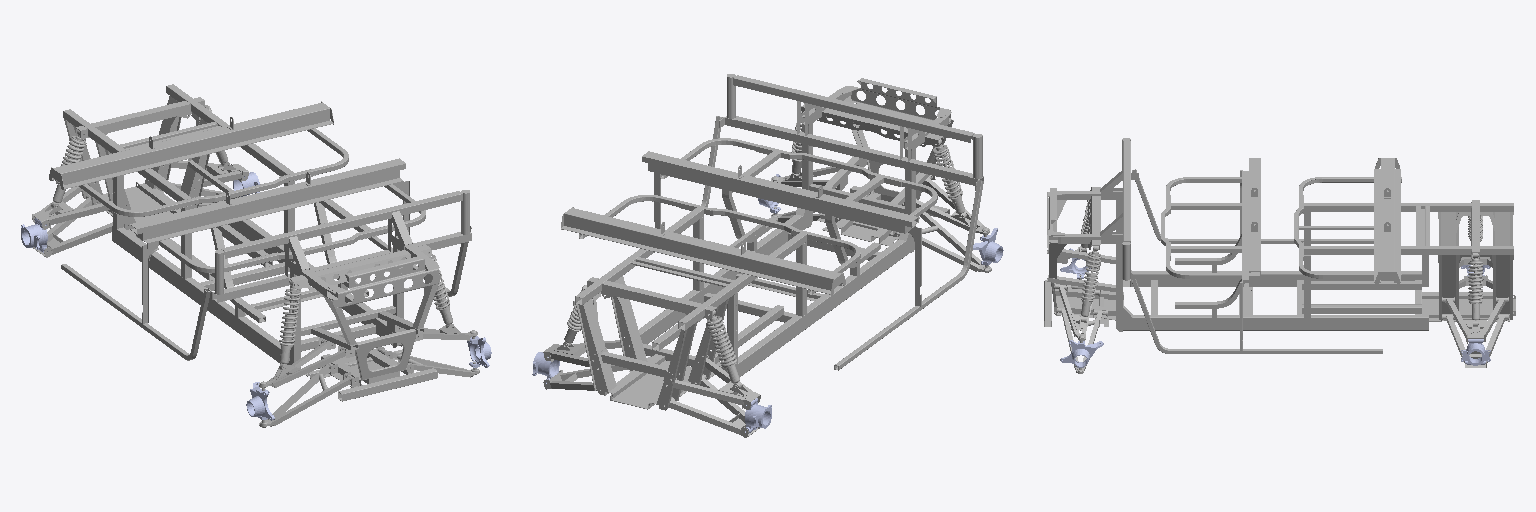
--- What the picture shows (computed from the rendered views, not written in the file) ---
The picture shows the robot from 3 angles, left to right: view 1: azimuth 30°, elevation 25°; view 2: azimuth 150°, elevation 25°; view 3: azimuth 270°, elevation 25°; orthographic projection.
Model panter with 21 links and 20 joints (20 revolute), rooted at CH, posed every joint at zero.
Links seen in each view (by area): view 1: CH, SD03_DCH, SD02_DCH, ST02_DCH, ST03_DCH, SD01_DCH, ST02_IZQ, SD03_IZQ, ST01_DCH, MGD_DCH, MGT_DCH, MGD_IZQ (+2 smaller); view 2: CH, ST02_DCH, ST03_DCH, SD03_DCH, ST01_DCH, ST02_IZQ, SD02_DCH, ST03_IZQ, SD01_DCH, MGD_DCH, MGT_DCH; view 3: CH, ST02_IZQ, ST01_IZQ, SD01_IZQ, ST03_IZQ, SD02_IZQ, MGD_IZQ, SD03_IZQ.
Boxes of the visible links, left/top/right/bottom form: CH: left=49, top=84, right=471, bottom=401; SD03_DCH: left=259, top=363, right=355, bottom=427; SD02_DCH: left=259, top=339, right=351, bottom=390; ST02_DCH: left=32, top=182, right=125, bottom=229; ST03_DCH: left=33, top=194, right=128, bottom=257; SD01_DCH: left=279, top=281, right=300, bottom=369; ST02_IZQ: left=163, top=161, right=248, bottom=188; SD03_IZQ: left=378, top=347, right=479, bottom=377; ST01_DCH: left=51, top=130, right=86, bottom=208; MGD_DCH: left=246, top=382, right=274, bottom=420; MGT_DCH: left=21, top=218, right=47, bottom=252; MGD_IZQ: left=467, top=336, right=491, bottom=367; CH: left=561, top=74, right=983, bottom=410; ST02_DCH: left=666, top=355, right=760, bottom=409; ST03_DCH: left=664, top=374, right=759, bottom=437; SD03_DCH: left=899, top=208, right=991, bottom=272; ST01_DCH: left=707, top=310, right=741, bottom=388; ST02_IZQ: left=543, top=340, right=629, bottom=369; SD02_DCH: left=903, top=175, right=989, bottom=236; ST03_IZQ: left=543, top=365, right=628, bottom=390; SD01_DCH: left=933, top=139, right=966, bottom=218; MGD_DCH: left=973, top=228, right=1003, bottom=265; MGT_DCH: left=745, top=398, right=771, bottom=433; CH: left=1044, top=138, right=1515, bottom=353; ST02_IZQ: left=1442, top=297, right=1508, bottom=343; ST01_IZQ: left=1468, top=253, right=1482, bottom=326; SD01_IZQ: left=1081, top=246, right=1101, bottom=322; ST03_IZQ: left=1442, top=314, right=1508, bottom=367; SD02_IZQ: left=1054, top=283, right=1099, bottom=342; MGD_IZQ: left=1060, top=340, right=1103, bottom=367; SD03_IZQ: left=1057, top=307, right=1106, bottom=373.
Size in the robot's own frame: 1.5 by 2.62 by 0.8512 metres.
Meshes: 21 distinct files referenced, 17 mesh visuals loaded (17 binary STL); not drawn: 4 (reference not matched to a file when rendering).

The robot description file, URDF, robot "panter":
<?xml version="1.0" encoding="utf-8"?>

<robot
  name="panter">

<!-- <robot xmlns:xacro="http://www.ros.org/wiki/xacro" name="panter"> -->

<!-- CHASIS -->

<link
    name="CH">
    <inertial>
      <origin
        xyz="-0.00983192888400144 0.62639795388304 0.443120445078725"
        rpy="0 0 0" />
      <mass
        value="16.3049342430285" />
      <inertia
        ixx="0.675005547889005"
        ixy="0.00102820871392242"
        ixz="2.91476841341558E-05"
        iyy="1.36648911961006"
        iyz="0.00345698135611923"
        izz="0.827550366158993" />
    </inertial>
    <visual>
      <origin
        xyz="0 0 0"
        rpy="0 0 0" />
      <geometry>
        <mesh
          filename="package://description_pkg/meshes/CH.STL" />
      </geometry>
      <material
        name="">
        <color
          rgba="0.752941176470588 0.752941176470588 0.752941176470588 1" />
      </material>
    </visual>
    <collision>
      <origin
        xyz="0 0 0"
        rpy="0 0 0" />
      <geometry>
        <mesh
          filename="package://description_pkg/meshes/CH.STL" />
      </geometry>
    </collision>
  </link>
  <link
    name="SD01_IZQ">
    <inertial>
      <origin
        xyz="0.023095387698854 0.0466016681758654 -0.187519014527032"
        rpy="0 0 0" />
      <mass
        value="1.56443700619494" />
      <inertia
        ixx="0.00548963633268464"
        ixy="-0.00018551496856869"
        ixz="0.000752980159420513"
        iyy="0.00531762879813634"
        iyz="0.00114868462288691"
        izz="0.00101605585965137" />
    </inertial>
    <visual>
      <origin
        xyz="0 0 0"
        rpy="0 0 0" />
      <geometry>
        <mesh
          filename="package://description_pkg/meshes/SD01_IZQ.STL" />
      </geometry>
      <material
        name="">
        <color
          rgba="0.752941176470588 0.752941176470588 0.752941176470588 1" />
      </material>
    </visual>
    <collision>
      <origin
        xyz="0 0 0"
        rpy="0 0 0" />
      <geometry>
        <mesh
          filename="package://description_pkg/meshes/SD01_IZQ.STL" />
      </geometry>
    </collision>
  </link>
  <joint
    name="SD01_IZQ_CH_joint"
    type="revolute">
    <origin
      xyz="0.364 -1.4598 0.85354"
      rpy="0 0 -1.5708" />
    <parent
      link="CH" />
    <child
      link="SD01_IZQ" />
    <axis
      xyz="1 0 0" />
    <limit
      lower="0"
      upper="0"
      effort="0"
      velocity="0" />
  </joint>
  <link
    name="SD02_IZQ">
    <inertial>
      <origin
        xyz="-0.109382785064343 0.00538487709498259 -0.0166938186536861"
        rpy="0 0 0" />
      <mass
        value="0.622420648905116" />
      <inertia
        ixx="0.00677202938721815"
        ixy="-0.000324278555608583"
        ixz="3.65258159556241E-05"
        iyy="0.00111523663422332"
        iyz="0.00191718137163107"
        izz="0.00655957488261709" />
    </inertial>
    <visual>
      <origin
        xyz="0 0 0"
        rpy="0 0 0" />
      <geometry>
        <mesh
          filename="package://description_pkg/meshes/SD02_IZQ.STL" />
      </geometry>
      <material
        name="">
        <color
          rgba="0.752941176470588 0.752941176470588 0.752941176470588 1" />
      </material>
    </visual>
    <collision>
      <origin
        xyz="0 0 0"
        rpy="0 0 0" />
      <geometry>
        <mesh
          filename="package://description_pkg/meshes/SD02_IZQ.STL" />
      </geometry>
    </collision>
  </link>
  <joint
    name="SD02_IZQ_CH_joint"
    type="revolute">
    <origin
      xyz="0.1865 -1.6482 0.53091"
      rpy="0 0 -1.5708" />
    <parent
      link="CH" />
    <child
      link="SD02_IZQ" />
    <axis
      xyz="1 0 0" />
    <limit
      lower="0"
      upper="0"
      effort="0"
      velocity="0" />
  </joint>
  <link
    name="MGD_IZQ">
    <inertial>
      <origin
        xyz="-0.0855932268768944 0.00173893668665892 -0.0563643457848181"
        rpy="0 0 0" />
      <mass
        value="0.657785044151253" />
      <inertia
        ixx="0.00160628936815674"
        ixy="-6.87964117180997E-06"
        ixz="-2.77497675092375E-05"
        iyy="0.000818666431242726"
        iyz="-0.000112075156886058"
        izz="0.00115594236415573" />
    </inertial>
    <visual>
      <origin
        xyz="0 0 0"
        rpy="0 0 0" />
      <geometry>
        <mesh
          filename="package://description_pkg/meshes/MGD_IZQ.STL" />
      </geometry>
      <material
        name="">
        <color
          rgba="0.792156862745098 0.819607843137255 0.933333333333333 1" />
      </material>
    </visual>
    <collision>
      <origin
        xyz="0 0 0"
        rpy="0 0 0" />
      <geometry>
        <mesh
          filename="package://description_pkg/meshes/MGD_IZQ.STL" />
      </geometry>
    </collision>
  </link>
  <joint
    name="MGD_IZQ_joint"
    type="revolute">
    <origin
      xyz="-0.1154 0.39602 -0.15378"
      rpy="0 0 1.5708" />
    <parent
      link="SD02_IZQ" />
    <child
      link="MGD_IZQ" />
    <axis
      xyz="0 0 1" />
    <limit
      lower="0"
      upper="0"
      effort="0"
      velocity="0" />
  </joint>
  <link
    name="ED_IZQ">
    <inertial>
      <origin
        xyz="8.85917361692634E-09 -0.0200314381656788 0.00122958365489734"
        rpy="0 0 0" />
      <mass
        value="28.7708024251051" />
      <inertia
        ixx="0.813510121096803"
        ixy="6.54513861211974E-08"
        ixz="-6.1423151286828E-09"
        iyy="1.43765773987055"
        iyz="-0.0383142541855921"
        izz="0.815862125218103" />
    </inertial>
    <visual>
      <origin
        xyz="0 0 0"
        rpy="0 0 0" />
      <geometry>
        <mesh
          filename="package://description_pkg/meshes/ED_IZQ.STL" />
      </geometry>
      <material
        name="">
        <color
          rgba="0.792156862745098 0.819607843137255 0.933333333333333 1" />
      </material>
    </visual>
    <collision>
      <origin
        xyz="0 0 0"
        rpy="0 0 0" />
      <geometry>
        <mesh
          filename="package://description_pkg/meshes/ED_IZQ.STL" />
      </geometry>
    </collision>
  </link>
  <joint
    name="ED_IZQ_joint"
    type="revolute">
    <origin
      xyz="0.12485 -0.0032345 -0.085073"
      rpy="0 0 -1.5708" />
    <parent
      link="MGD_IZQ" />
    <child
      link="ED_IZQ" />
    <axis
      xyz="0 1 0" />
    <limit
      lower="0"
      upper="0"
      effort="0"
      velocity="0" />
  </joint>
  <link
    name="SD03_IZQ">
    <inertial>
      <origin
        xyz="-0.0973675515390373 0.158067753699 -0.0696606835141533"
        rpy="0 0 0" />
      <mass
        value="0.468898614819819" />
      <inertia
        ixx="0.00505911557852378"
        ixy="-0.000121765335801826"
        ixz="1.81818642259916E-05"
        iyy="0.00122147601558512"
        iyz="0.00174136109600662"
        izz="0.00479917105508991" />
    </inertial>
    <visual>
      <origin
        xyz="0 0 0"
        rpy="0 0 0" />
      <geometry>
        <mesh
          filename="package://description_pkg/meshes/SD03_IZQ.STL" />
      </geometry>
      <material
        name="">
        <color
          rgba="0.752941176470588 0.752941176470588 0.752941176470588 1" />
      </material>
    </visual>
    <collision>
      <origin
        xyz="0 0 0"
        rpy="0 0 0" />
      <geometry>
        <mesh
          filename="package://description_pkg/meshes/SD03_IZQ.STL" />
      </geometry>
    </collision>
  </link>
  <joint
    name="SD03_IZQ_CH_joint"
    type="revolute">
    <origin
      xyz="0.151 -1.6306 0.37054"
      rpy="0 0 -1.5708" />
    <parent
      link="CH" />
    <child
      link="SD03_IZQ" />
    <axis
      xyz="0.99756 0 0.069756" />
    <limit
      lower="0"
      upper="0"
      effort="0"
      velocity="0" />
  </joint>
  <link
    name="SD01_DCH">
    <inertial>
      <origin
        xyz="0.0230960940307681 -0.0466016638376696 -0.18751886137021"
        rpy="0 0 0" />
      <mass
        value="1.56443734854762" />
      <inertia
        ixx="0.00547351601733843"
        ixy="0.000202568433857257"
        ixz="0.000799273132675731"
        iyy="0.0053176293368279"
        iyz="-0.00114580036452776"
        izz="0.00103217687096515" />
    </inertial>
    <visual>
      <origin
        xyz="0 0 0"
        rpy="0 0 0" />
      <geometry>
        <mesh
          filename="package://description_pkg/meshes/SD01_DCH.STL" />
      </geometry>
      <material
        name="">
        <color
          rgba="0.752941176470588 0.752941176470588 0.752941176470588 1" />
      </material>
    </visual>
    <collision>
      <origin
        xyz="0 0 0"
        rpy="0 0 0" />
      <geometry>
        <mesh
          filename="package://description_pkg/meshes/SD01_DCH.STL" />
      </geometry>
    </collision>
  </link>
  <joint
    name="SD01_DCH_CH_joint"
    type="revolute">
    <origin
      xyz="-0.364 -1.4598 0.85354"
      rpy="0 0 -1.5708" />
    <parent
      link="CH" />
    <child
      link="SD01_DCH" />
    <axis
      xyz="1 0 0" />
    <limit
      lower="0"
      upper="0"
      effort="0"
      velocity="0" />
  </joint>
  <link
    name="SD02_DCH">
    <inertial>
      <origin
        xyz="-0.100708620572387 -0.17880788771794 -0.0713964837824563"
        rpy="0 0 0" />
      <mass
        value="0.33501998114193" />
      <inertia
        ixx="0.00342642521802974"
        ixy="-0.000175463505184739"
        ixz="-8.53632724385784E-05"
        iyy="0.000560176153147602"
        iyz="-0.00101420516717583"
        izz="0.00324706649765384" />
    </inertial>
    <visual>
      <origin
        xyz="0 0 0"
        rpy="0 0 0" />
      <geometry>
        <mesh
          filename="package://description_pkg/meshes/SD02_DCH.STL" />
      </geometry>
      <material
        name="">
        <color
          rgba="0.752941176470588 0.752941176470588 0.752941176470588 1" />
      </material>
    </visual>
    <collision>
      <origin
        xyz="0 0 0"
        rpy="0 0 0" />
      <geometry>
        <mesh
          filename="package://description_pkg/meshes/SD02_DCH.STL" />
      </geometry>
    </collision>
  </link>
  <joint
    name="SD02_DCH_CH_joint"
    type="revolute">
    <origin
      xyz="-0.1865 -1.6482 0.53091"
      rpy="0 0 -1.5708" />
    <parent
      link="CH" />
    <child
      link="SD02_DCH" />
    <axis
      xyz="1 0 0" />
    <limit
      lower="0"
      upper="0"
      effort="0"
      velocity="0" />
  </joint>
  <link
    name="MGD_DCH">
    <inertial>
      <origin
        xyz="-0.0215058691998961 0.00220187613752731 -0.0514181988629917"
        rpy="0 0 0" />
      <mass
        value="0.32878873728313" />
      <inertia
        ixx="0.000807927106157257"
        ixy="1.5159094149856E-05"
        ixz="-2.30270459407509E-05"
        iyy="0.000408973719348148"
        iyz="-5.49889480653895E-05"
        izz="0.00057221553445741" />
    </inertial>
    <visual>
      <origin
        xyz="0 0 0"
        rpy="0 0 0" />
      <geometry>
        <mesh
          filename="package://description_pkg/meshes/MGD_DCH.STL" />
      </geometry>
      <material
        name="">
        <color
          rgba="0.792156862745098 0.819607843137255 0.933333333333333 1" />
      </material>
    </visual>
    <collision>
      <origin
        xyz="0 0 0"
        rpy="0 0 0" />
      <geometry>
        <mesh
          filename="package://description_pkg/meshes/MGD_DCH.STL" />
      </geometry>
    </collision>
  </link>
  <joint
    name="MGD_DCH_joint"
    type="revolute">
    <origin
      xyz="-0.11478 -0.3967 -0.16813"
      rpy="0 0 1.5708" />
    <parent
      link="SD02_DCH" />
    <child
      link="MGD_DCH" />
    <axis
      xyz="0 0 1" />
    <limit
      lower="0"
      upper="0"
      effort="0"
      velocity="0" />
  </joint>
  <link
    name="ED_DCH">
    <inertial>
      <origin
        xyz="2.51975995624321E-10 0.0201916399599397 0.00147256651074923"
        rpy="0 0 0" />
      <mass
        value="28.8641990628489" />
      <inertia
        ixx="0.813560092722584"
        ixy="1.66087358403107E-08"
        ixz="1.60975139574968E-09"
        iyy="1.4367760956558"
        iyz="0.0454506764349233"
        izz="0.816874748863127" />
    </inertial>
    <visual>
      <origin
        xyz="0 0 0"
        rpy="0 0 0" />
      <geometry>
        <mesh
          filename="package://description_pkg/meshes/ED_DCH.STL" />
      </geometry>
      <material
        name="">
        <color
          rgba="0.792156862745098 0.819607843137255 0.933333333333333 1" />
      </material>
    </visual>
    <collision>
      <origin
        xyz="0 0 0"
        rpy="0 0 0" />
      <geometry>
        <mesh
          filename="package://description_pkg/meshes/ED_DCH.STL" />
      </geometry>
    </collision>
  </link>
  <joint
    name="ED_DCH_joint"
    type="revolute">
    <origin
      xyz="-0.12298 -0.0027949 -0.074613"
      rpy="0 0 -1.5708" />
    <parent
      link="MGD_DCH" />
    <child
      link="ED_DCH" />
    <axis
      xyz="0 1 0" />
    <limit
      lower="0"
      upper="0"
      effort="0"
      velocity="0" />
  </joint>
  <link
    name="SD03_DCH">
    <inertial>
      <origin
        xyz="-0.0979518480958868 -0.169078003137017 -0.0764949350807603"
        rpy="0 0 0" />
      <mass
        value="0.395241260034587" />
      <inertia
        ixx="0.00503011023628039"
        ixy="0.000168676429613566"
        ixz="4.78400236722845E-05"
        iyy="0.00114327113657168"
        iyz="-0.00177766605705214"
        izz="0.00461706807688138" />
    </inertial>
    <visual>
      <origin
        xyz="0 0 0"
        rpy="0 0 0" />
      <geometry>
        <mesh
          filename="package://description_pkg/meshes/SD03_DCH.STL" />
      </geometry>
      <material
        name="">
        <color
          rgba="0.752941176470588 0.752941176470588 0.752941176470588 1" />
      </material>
    </visual>
    <collision>
      <origin
        xyz="0 0 0"
        rpy="0 0 0" />
      <geometry>
        <mesh
          filename="package://description_pkg/meshes/SD03_DCH.STL" />
      </geometry>
    </collision>
  </link>
  <joint
    name="SD03_DCH_CH_joint"
    type="revolute">
    <origin
      xyz="-0.151 -1.6306 0.37054"
      rpy="0 0 -1.5708" />
    <parent
      link="CH" />
    <child
      link="SD03_DCH" />
    <axis
      xyz="0.99756 0 0.069756" />
    <limit
      lower="0"
      upper="0"
      effort="0"
      velocity="0" />
  </joint>
  <link
    name="ST01_IZQ">
    <inertial>
      <origin
        xyz="0.00849916904570347 0.0657819927229274 -0.159438279696501"
        rpy="0 0 0" />
      <mass
        value="1.68652397926042" />
      <inertia
        ixx="0.00633380015599703"
        ixy="-1.45261475353953E-05"
        ixz="3.52667266964333E-05"
        iyy="0.00552508031376821"
        iyz="0.0019468091581656"
        izz="0.00160836691478164" />
    </inertial>
    <visual>
      <origin
        xyz="0 0 0"
        rpy="0 0 0" />
      <geometry>
        <mesh
          filename="package://description_pkg/meshes/ST01_IZQ.STL" />
      </geometry>
      <material
        name="">
        <color
          rgba="0.752941176470588 0.752941176470588 0.752941176470588 1" />
      </material>
    </visual>
    <collision>
      <origin
        xyz="0 0 0"
        rpy="0 0 0" />
      <geometry>
        <mesh
          filename="package://description_pkg/meshes/ST01_IZQ.STL" />
      </geometry>
    </collision>
  </link>
  <joint
    name="ST01_IZQ_CH_joint"
    type="revolute">
    <origin
      xyz="0.3275 0.66468 0.79122"
      rpy="0 0 -1.5708" />
    <parent
      link="CH" />
    <child
      link="ST01_IZQ" />
    <axis
      xyz="1 0 0" />
    <limit
      lower="0"
      upper="0"
      effort="0"
      velocity="0" />
  </joint>
  <link
    name="ST02_IZQ">
    <inertial>
      <origin
        xyz="0.15000000516741 0.174879151139807 -0.0332493411123895"
        rpy="0 0 0" />
      <mass
        value="0.816782909187791" />
      <inertia
        ixx="0.00805847541687784"
        ixy="9.94042643498971E-10"
        ixz="4.39327268225593E-09"
        iyy="0.00136969060130576"
        iyz="0.00150446688083674"
        izz="0.00869514722257204" />
    </inertial>
    <visual>
      <origin
        xyz="0 0 0"
        rpy="0 0 0" />
      <geometry>
        <mesh
          filename="package://description_pkg/meshes/ST02_IZQ.STL" />
      </geometry>
      <material
        name="">
        <color
          rgba="0.752941176470588 0.752941176470588 0.752941176470588 1" />
      </material>
    </visual>
    <collision>
      <origin
        xyz="0 0 0"
        rpy="0 0 0" />
      <geometry>
        <mesh
          filename="package://description_pkg/meshes/ST02_IZQ.STL" />
      </geometry>
    </collision>
  </link>
  <joint
    name="ST02_IZQ_CH_joint"
    type="revolute">
    <origin
      xyz="0.19 0.80618 0.45222"
      rpy="0 0 -1.5708" />
    <parent
      link="CH" />
    <child
      link="ST02_IZQ" />
    <axis
      xyz="1 0 0" />
    <limit
      lower="0"
      upper="0"
      effort="0"
      velocity="0" />
  </joint>
  <link
    name="MGT_IZQ">
    <inertial>
      <origin
        xyz="0.0699881063110813 -0.0306022880154644 5.74031709610345E-07"
        rpy="0 0 0" />
      <mass
        value="0.451405474193011" />
      <inertia
        ixx="0.000884120311608252"
        ixy="-3.27280002046394E-05"
        ixz="-4.17903307141819E-06"
        iyy="0.00152701411958253"
        iyz="3.77556476076856E-10"
        izz="0.00126994685390395" />
    </inertial>
    <visual>
      <origin
        xyz="0 0 0"
        rpy="0 0 0" />
      <geometry>
        <mesh
          filename="package://description_pkg/meshes/MGT_IZQ.STL" />
      </geometry>
      <material
        name="">
        <color
          rgba="0.792156862745098 0.819607843137255 0.933333333333333 1" />
      </material>
    </visual>
    <collision>
      <origin
        xyz="0 0 0"
        rpy="0 0 0" />
      <geometry>
        <mesh
          filename="package://description_pkg/meshes/MGT_IZQ.STL" />
      </geometry>
    </collision>
  </link>
  <joint
    name="MGT_IZQ_joint"
    type="revolute">
    <origin
      xyz="0.15 0.35805 -0.078868"
      rpy="-1.5708 1.5606 1.5708" />
    <parent
      link="ST02_IZQ" />
    <child
      link="MGT_IZQ" />
    <axis
      xyz="0 0 1" />
    <limit
      lower="0"
      upper="0"
      effort="0"
      velocity="0" />
  </joint>
  <link
    name="ET_IZQ">
    <inertial>
      <origin
        xyz="-0.000706788941648773 -0.00623682627460875 -6.33735726794371E-05"
        rpy="0 0 0" />
      <mass
        value="31.0148936001929" />
      <inertia
        ixx="0.862771479469616"
        ixy="1.41722187293223E-05"
        ixz="1.98490035900563E-07"
        iyy="1.39715800883274"
        iyz="0.00543039631459998"
        izz="0.86277851734691" />
    </inertial>
    <visual>
      <origin
        xyz="0 0 0"
        rpy="0 0 0" />
      <geometry>
        <mesh
          filename="package://description_pkg/meshes/ET_IZQ.STL" />
      </geometry>
      <material
        name="">
        <color
          rgba="0.792156862745098 0.819607843137255 0.933333333333333 1" />
      </material>
    </visual>
    <collision>
      <origin
        xyz="0 0 0"
        rpy="0 0 0" />
      <geometry>
        <mesh
          filename="package://description_pkg/meshes/ET_IZQ.STL" />
      </geometry>
    </collision>
  </link>
  <joint
    name="ET_IZQ_joint"
    type="revolute">
    <origin
      xyz="0.067 -0.12575 0"
      rpy="3.1314 1.5708 0" />
    <parent
      link="MGT_IZQ" />
    <child
      link="ET_IZQ" />
    <axis
      xyz="0 1 0" />
    <limit
      lower="0"
      upper="0"
      effort="0"
      velocity="0" />
  </joint>
  <link
    name="ST03_IZQ">
    <inertial>
      <origin
        xyz="0.149999999999999 0.164533605888154 -0.052514843928228"
        rpy="0 0 0" />
      <mass
        value="0.341061626894356" />
      <inertia
        ixx="0.00227935928137916"
        ixy="9.69569035077001E-18"
        ixz="-2.27272975841754E-18"
        iyy="0.000532010440822696"
        iyz="0.000627611706470002"
        izz="0.00233995796668448" />
    </inertial>
    <visual>
      <origin
        xyz="0 0 0"
        rpy="0 0 0" />
      <geometry>
        <mesh
          filename="package://description_pkg/meshes/ST03_IZQ.STL" />
      </geometry>
      <material
        name="">
        <color
          rgba="0.752941176470588 0.752941176470588 0.752941176470588 1" />
      </material>
    </visual>
    <collision>
      <origin
        xyz="0 0 0"
        rpy="0 0 0" />
      <geometry>
        <mesh
          filename="package://description_pkg/meshes/ST03_IZQ.STL" />
      </geometry>
    </collision>
  </link>
  <joint
    name="ST03_IZQ_CH_joint"
    type="revolute">
    <origin
      xyz="0.178 0.80618 0.34222"
      rpy="0 0 -1.5708" />
    <parent
      link="CH" />
    <child
      link="ST03_IZQ" />
    <axis
      xyz="1 0 0" />
    <limit
      lower="0"
      upper="0"
      effort="0"
      velocity="0" />
  </joint>
  <link
    name="ST01_DCH">
    <inertial>
      <origin
        xyz="0.00850083095425092 -0.0657819927228879 -0.159438279696496"
        rpy="0 0 0" />
      <mass
        value="1.68652397926042" />
      <inertia
        ixx="0.00633380015599702"
        ixy="-1.45261475354709E-05"
        ixz="-3.52667266966163E-05"
        iyy="0.00552508031376821"
        iyz="-0.0019468091581656"
        izz="0.00160836691478164" />
    </inertial>
    <visual>
      <origin
        xyz="0 0 0"
        rpy="0 0 0" />
      <geometry>
        <mesh
          filename="package://description_pkg/meshes/ST01_DCH.STL" />
      </geometry>
      <material
        name="">
        <color
          rgba="0.752941176470588 0.752941176470588 0.752941176470588 1" />
      </material>
    </visual>
    <collision>
      <origin
        xyz="0 0 0"
        rpy="0 0 0" />
      <geometry>
        <mesh
          filename="package://description_pkg/meshes/ST01_DCH.STL" />
      </geometry>
    </collision>
  </link>
  <joint
    name="ST01_DCH_CH_joint"
    type="revolute">
    <origin
      xyz="-0.3275 0.66468 0.79122"
      rpy="0 0 -1.5708" />
    <parent
      link="CH" />
    <child
      link="ST01_DCH" />
    <axis
      xyz="1 0 0" />
    <limit
      lower="0"
      upper="0"
      effort="0"
      velocity="0" />
  </joint>
  <link
    name="ST02_DCH">
    <inertial>
      <origin
        xyz="0.149999994832589 -0.174879151139789 -0.0332493411124751"
        rpy="0 0 0" />
      <mass
        value="0.816782909187794" />
      <inertia
        ixx="0.00805847541687786"
        ixy="9.94042592047479E-10"
        ixz="-4.39327267299086E-09"
        iyy="0.00136969060130728"
        iyz="-0.00150446688084042"
        izz="0.00869514722257055" />
    </inertial>
    <visual>
      <origin
        xyz="0 0 0"
        rpy="0 0 0" />
      <geometry>
        <mesh
          filename="package://description_pkg/meshes/ST02_DCH.STL" />
      </geometry>
      <material
        name="">
        <color
          rgba="0.752941176470588 0.752941176470588 0.752941176470588 1" />
      </material>
    </visual>
    <collision>
      <origin
        xyz="0 0 0"
        rpy="0 0 0" />
      <geometry>
        <mesh
          filename="package://description_pkg/meshes/ST02_DCH.STL" />
      </geometry>
    </collision>
  </link>
  <joint
    name="ST02_DCH_CH_joint"
    type="revolute">
    <origin
      xyz="-0.19 0.80618 0.45222"
      rpy="0 0 -1.5708" />
    <parent
      link="CH" />
    <child
      link="ST02_DCH" />
    <axis
      xyz="1 0 0" />
    <limit
      lower="0"
      upper="0"
      effort="0"
      velocity="0" />
  </joint>
  <link
    name="MGT_DCH">
    <inertial>
      <origin
        xyz="0.0699879996489881 -0.0306022973969667 8.61290751941191E-07"
        rpy="0 0 0" />
      <mass
        value="0.451405474196267" />
      <inertia
        ixx="0.000884120347797621"
        ixy="-3.27280001957708E-05"
        ixz="-4.18070325172536E-06"
        iyy="0.00152701411958672"
        iyz="2.35896829516157E-10"
        izz="0.00126994681772039" />
    </inertial>
    <visual>
      <origin
        xyz="0 0 0"
        rpy="0 0 0" />
      <geometry>
        <mesh
          filename="package://description_pkg/meshes/MGT_DCH.STL" />
      </geometry>
      <material
        name="">
        <color
          rgba="0.792156862745098 0.819607843137255 0.933333333333333 1" />
      </material>
    </visual>
    <collision>
      <origin
        xyz="0 0 0"
        rpy="0 0 0" />
      <geometry>
        <mesh
          filename="package://description_pkg/meshes/MGT_DCH.STL" />
      </geometry>
    </collision>
  </link>
  <joint
    name="MGT_DCH_joint"
    type="revolute">
    <origin
      xyz="0.15 -0.35955 -0.078844"
      rpy="-1.5708 1.5606 -1.5708" />
    <parent
      link="ST02_DCH" />
    <child
      link="MGT_DCH" />
    <axis
      xyz="0 0 1" />
    <limit
      lower="0"
      upper="0"
      effort="0"
      velocity="0" />
  </joint>
  <link
    name="ET_DCH">
    <inertial>
      <origin
        xyz="-0.000709880589866541 0.0242195901253508 -0.000246078162161822"
        rpy="0 0 0" />
      <mass
        value="30.8800178412016" />
      <inertia
        ixx="0.862699894915397"
        ixy="-1.41751435116057E-05"
        ixz="-6.43791893203579E-09"
        iyy="1.3970498082412"
        iyz="-0.00543001500592129"
        izz="0.862707748240568" />
    </inertial>
    <visual>
      <origin
        xyz="0 0 0"
        rpy="0 0 0" />
      <geometry>
        <mesh
          filename="package://description_pkg/meshes/ET_DCH.STL" />
      </geometry>
      <material
        name="">
        <color
          rgba="0.752941176470588 0.752941176470588 0.752941176470588 1" />
      </material>
    </visual>
    <collision>
      <origin
        xyz="0 0 0"
        rpy="0 0 0" />
      <geometry>
        <mesh
          filename="package://description_pkg/meshes/ET_DCH.STL" />
      </geometry>
    </collision>
  </link>
  <joint
    name="ET_DCH_joint"
    type="revolute">
    <origin
      xyz="0.067 -0.15 0"
      rpy="3.1314 -1.5708 0" />
    <parent
      link="MGT_DCH" />
    <child
      link="ET_DCH" />
    <axis
      xyz="0 1 0" />
    <limit
      lower="0"
      upper="0"
      effort="0"
      velocity="0" />
  </joint>
  <link
    name="ST03_DCH">
    <inertial>
      <origin
        xyz="0.150000000000001 -0.164533605888153 -0.0525148439282281"
        rpy="0 0 0" />
      <mass
        value="0.341061626894354" />
      <inertia
        ixx="0.00227935928137915"
        ixy="3.63563465144519E-18"
        ixz="2.24370904315262E-18"
        iyy="0.000532010440822695"
        iyz="-0.000627611706469999"
        izz="0.00233995796668448" />
    </inertial>
    <visual>
      <origin
        xyz="0 0 0"
        rpy="0 0 0" />
      <geometry>
        <mesh
          filename="package://description_pkg/meshes/ST03_DCH.STL" />
      </geometry>
      <material
        name="">
        <color
          rgba="0.752941176470588 0.752941176470588 0.752941176470588 1" />
      </material>
    </visual>
    <collision>
      <origin
        xyz="0 0 0"
        rpy="0 0 0" />
      <geometry>
        <mesh
          filename="package://description_pkg/meshes/ST03_DCH.STL" />
      </geometry>
    </collision>
  </link>
  <joint
    name="ST03_DCH_CH_joint"
    type="revolute">
    <origin
      xyz="-0.178 0.80618 0.34222"
      rpy="0 0 -1.5708" />
    <parent
      link="CH" />
    <child
      link="ST03_DCH" />
    <axis
      xyz="1 0 0" />
    <limit
      lower="0"
      upper="0"
      effort="0"
      velocity="0" />
  </joint>

  <gazebo>
    <plugin filename="libignition-gazebo-ackermann-steering-system.so" name="ignition::gazebo::systems::AckermannSteering">

      <left_steering_joint>MGD_IZQ_joint</left_steering_joint>
      <left_joint>ED_IZQ_joint</left_joint>
      <right_steering_joint>MGD_DCH_joint</right_steering_joint>
      <right_joint>ED_DCH_joint</right_joint>

      <left_joint>ET_IZQ_joint</left_joint>
      <right_joint>ET_DCH_joint</right_joint>  

      <wheel_separation>1.41</wheel_separation> 
      <wheel_radius>0.343</wheel_radius>
      <min_velocity>-15.0</min_velocity> 
      <max_velocity>15.0</max_velocity>
      <min_acceleration>-0.5</min_acceleration>
      <max_acceleration>0.5</max_acceleration> 

      <topic>cmd_vel</topic> 

    </plugin>
  </gazebo>   

</robot>
